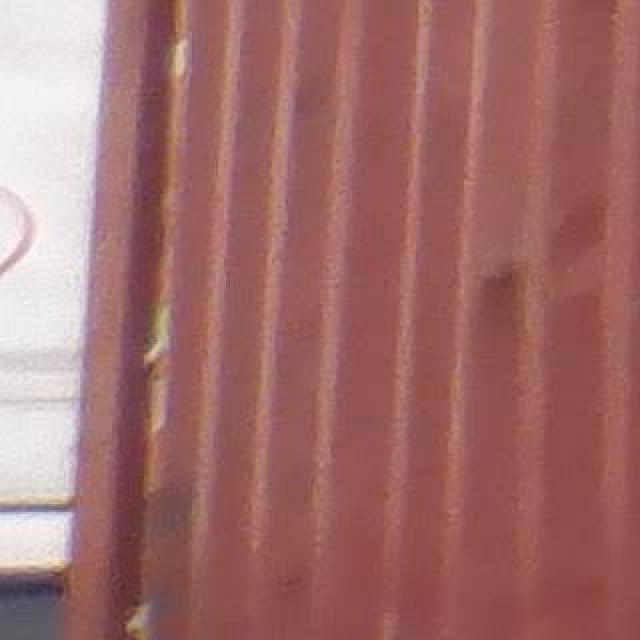dent: (459, 195, 627, 325)
